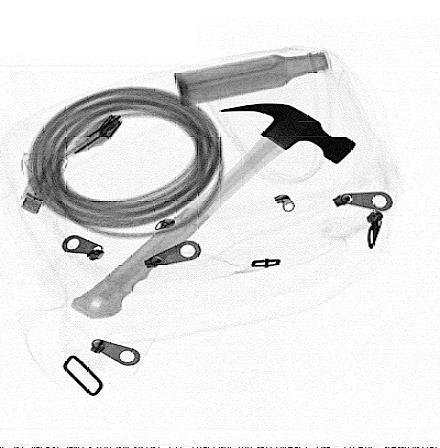Hammer: (70, 103, 357, 319)
